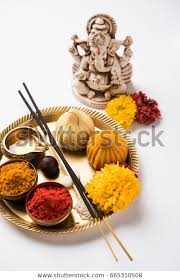modak: (86, 129, 133, 168)
